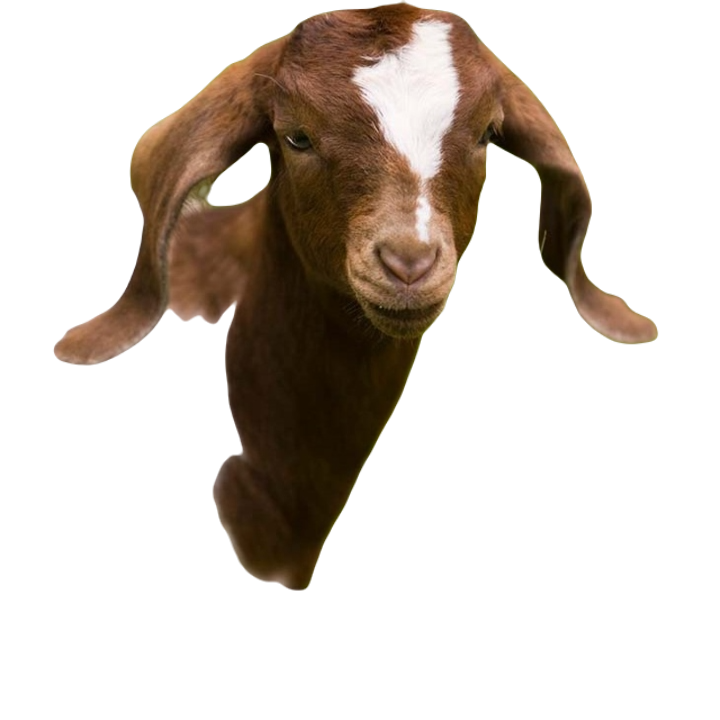Goat: (50, 1, 652, 594)
